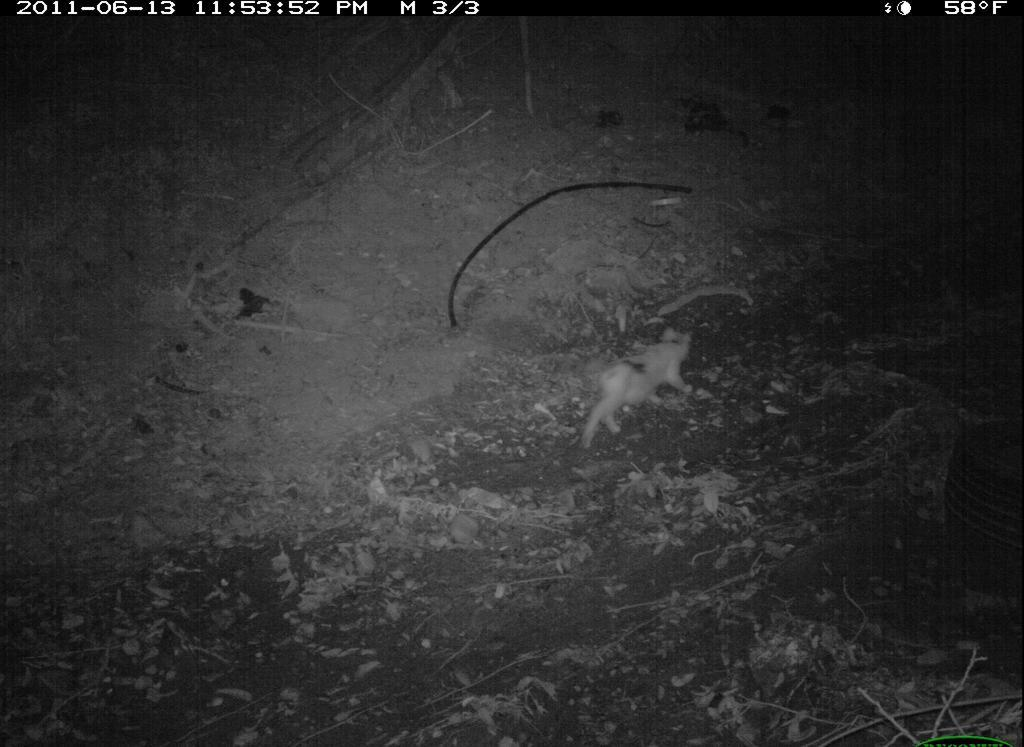cat: (585, 321, 702, 447)
